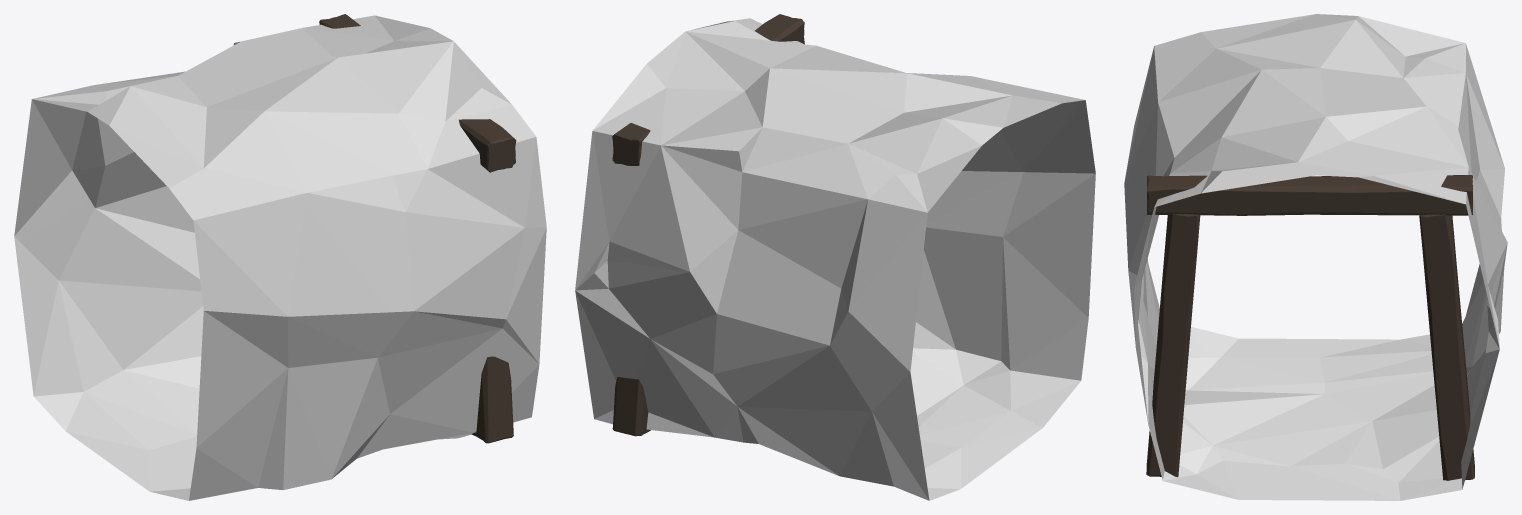
File: Spline1_LP.fbx
The picture shows the model from 3 angles, left to right: view 1: azimuth 30°, elevation 25°; view 2: azimuth 150°, elevation 25°; view 3: azimuth 270°, elevation 25°; orthographic projection. The views are drawn at different scales.
Parts seen in each view (by area): view 1: Spline1_LP; view 2: Spline1_LP; view 3: Spline1_LP.
Part boxes in pixels (x1,y1,x2,y2): Spline1_LP: (14,14,546,500); Spline1_LP: (575,14,1095,500); Spline1_LP: (1124,14,1507,500).
Bounding box in the file's own units: 306 × 305 × 300.
